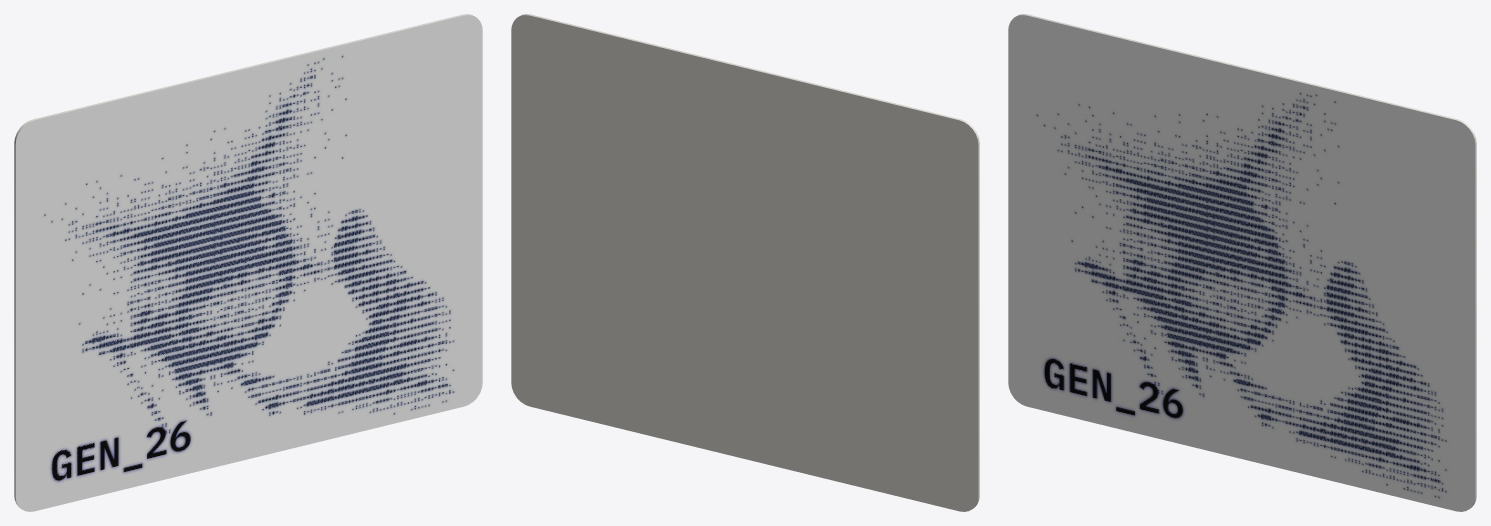
The model's file is merch-genesis-sticker.glb.
3 renders of one model, left to right at view 1: azimuth 30°, elevation 25°; view 2: azimuth 150°, elevation 25°; view 3: azimuth 330°, elevation 25°, orthographic.
Parts seen in each view (by area): view 1: genesis_sticker; view 2: genesis_sticker; view 3: genesis_sticker.
Boxes of the visible parts, <box> form: genesis_sticker: <box>14,14,482,511</box>; genesis_sticker: <box>511,14,979,511</box>; genesis_sticker: <box>1008,14,1476,511</box>.
Size of the model in its own units: 0.75 by 0.6 by 0.004.
Materials: 2 (1 with a texture image).
